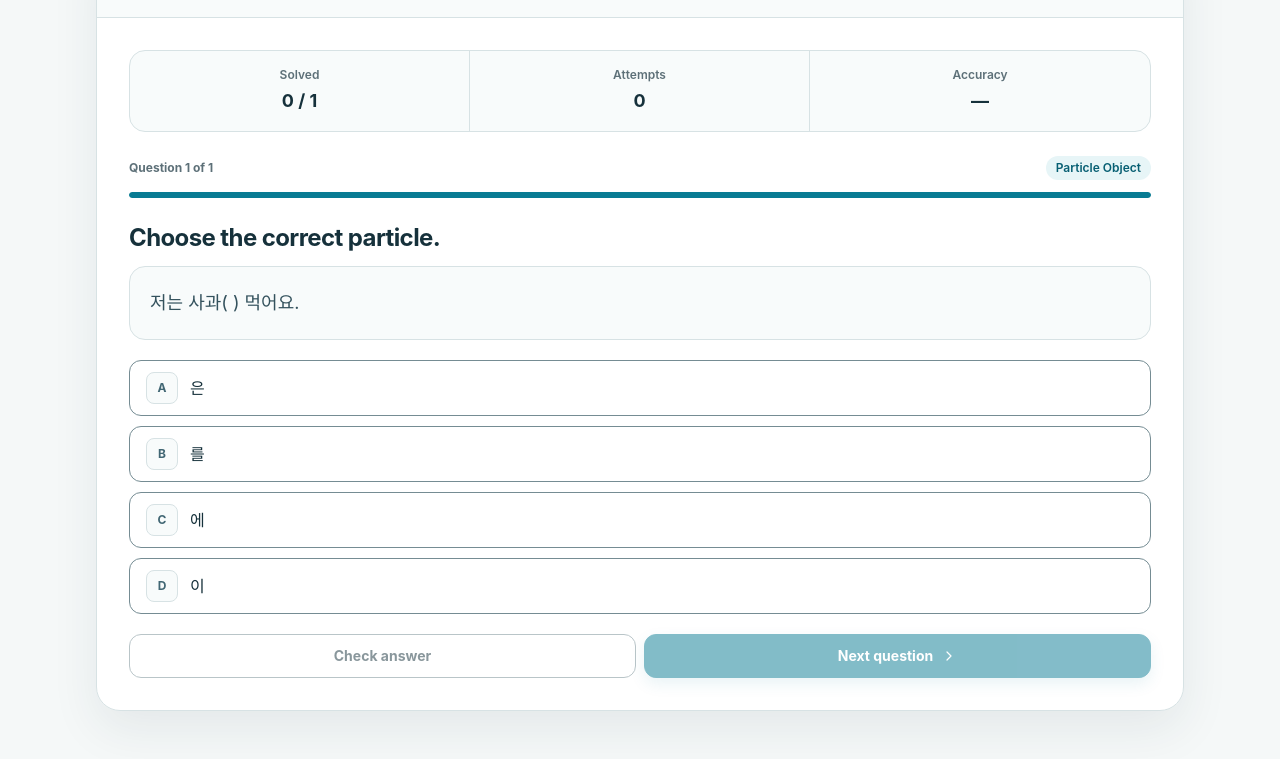
QuizzesPage request and URL transitions › submits one selected answer and updates progress after feedback
(page scrolled)
Expected: the heading "Choose the correct particle." is shown, top-left (129, 223), bottom-right (440, 252)
Click the button "B 를" at (162, 454), box top-left (129, 426), bottom-right (1151, 482)
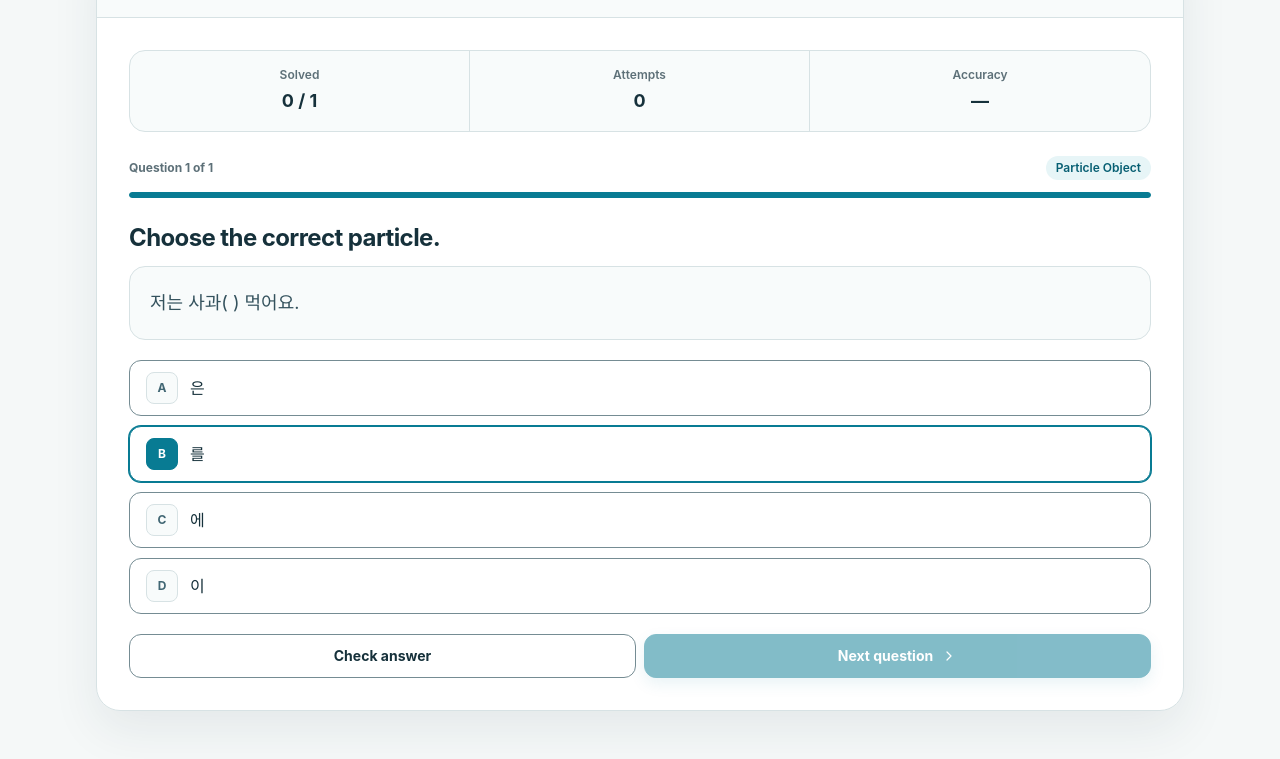
Click the button "Check answer" at (382, 656), box top-left (129, 634), bottom-right (636, 678)
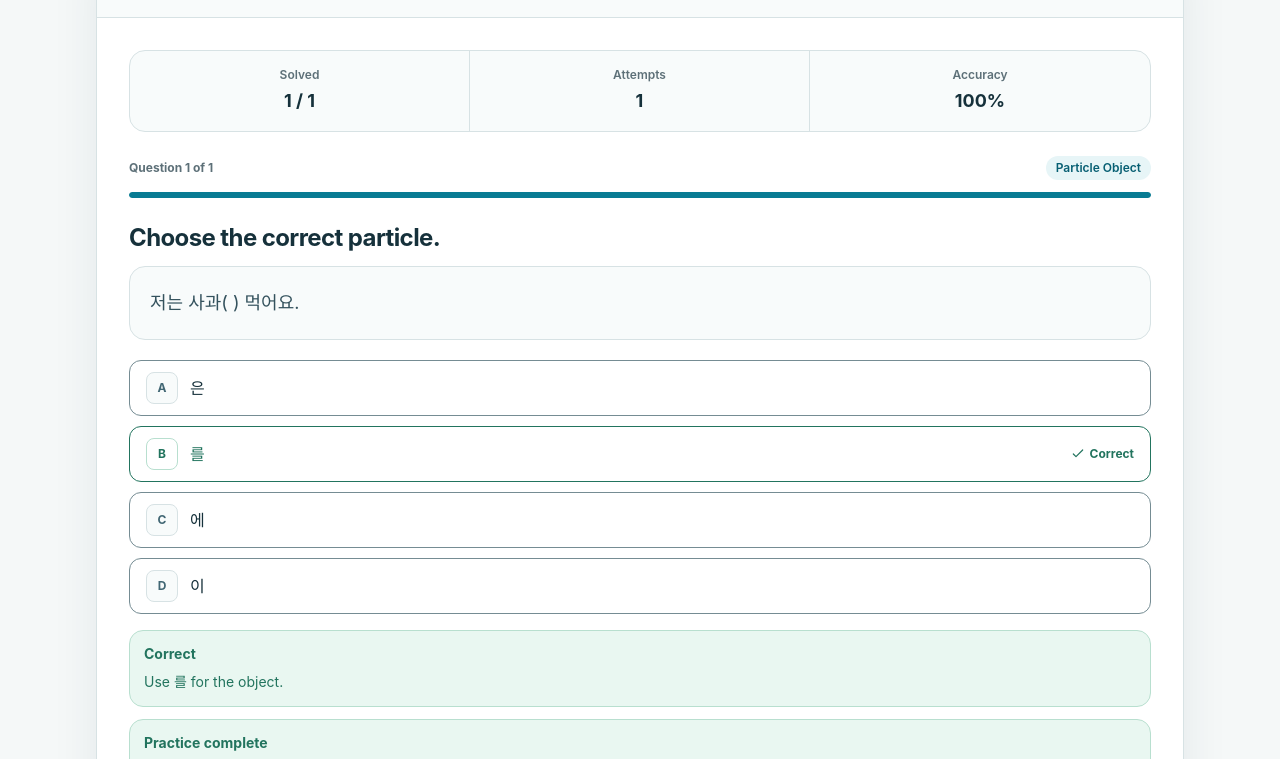
Expected: the text "Use 를 for the object." is shown, top-left (144, 673), bottom-right (283, 690)
Expected: the text "1 / 1" is shown, top-left (284, 90), bottom-right (315, 111)
